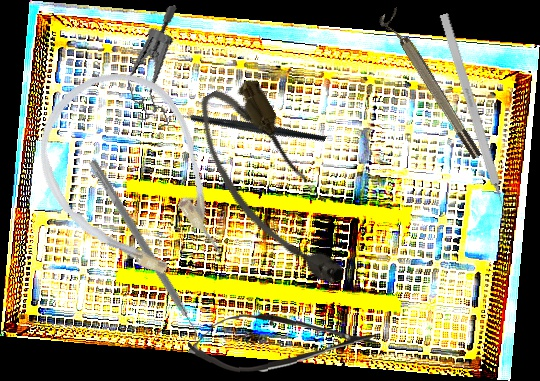Cannula: (11, 47, 256, 314), (184, 71, 359, 306)
Chopper: (163, 63, 327, 196)
Fixation Ring: (376, 7, 485, 165)
Hook Surgical: (438, 12, 513, 226)
Micro Scissor: (187, 308, 377, 375)
Spatula Surgical: (80, 158, 208, 348)
Speculum: (107, 4, 210, 137)
